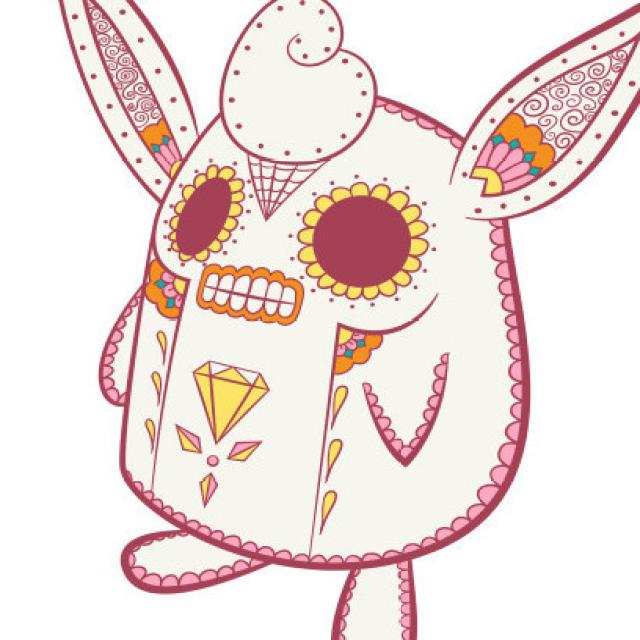Wigglytuff: (108, 5, 544, 589)
